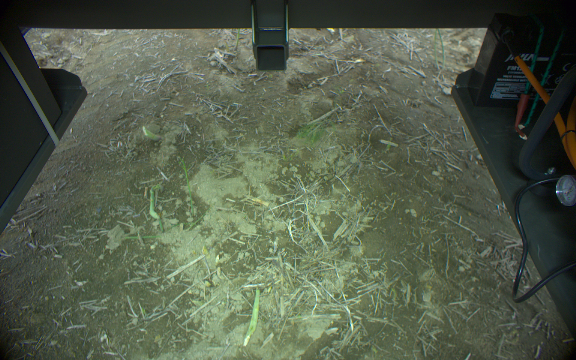aspa: (144, 185, 160, 221), (436, 29, 449, 70), (434, 29, 440, 69), (233, 29, 240, 53)
